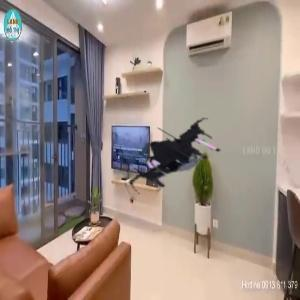drone: (118, 98, 232, 212)
